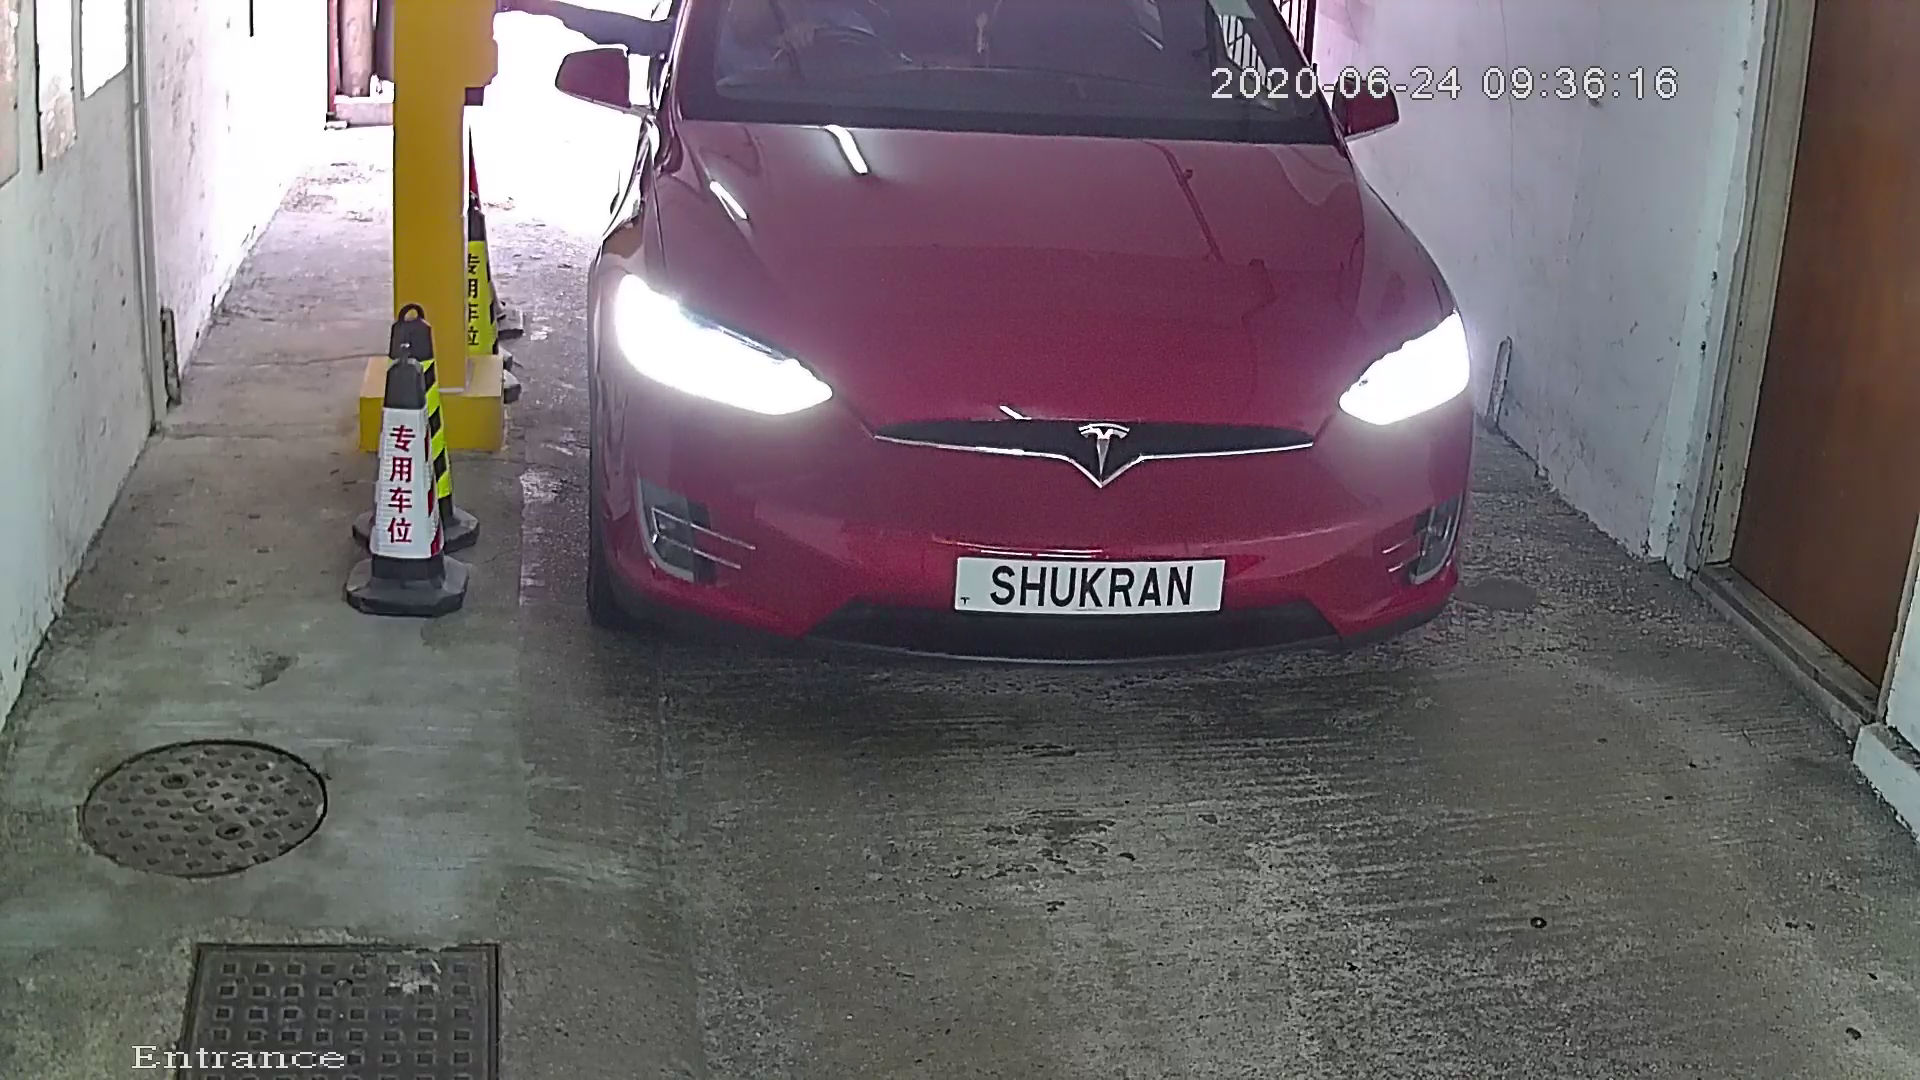Car: (534, 1, 1518, 742)
License Plate: (941, 546, 1239, 632)
